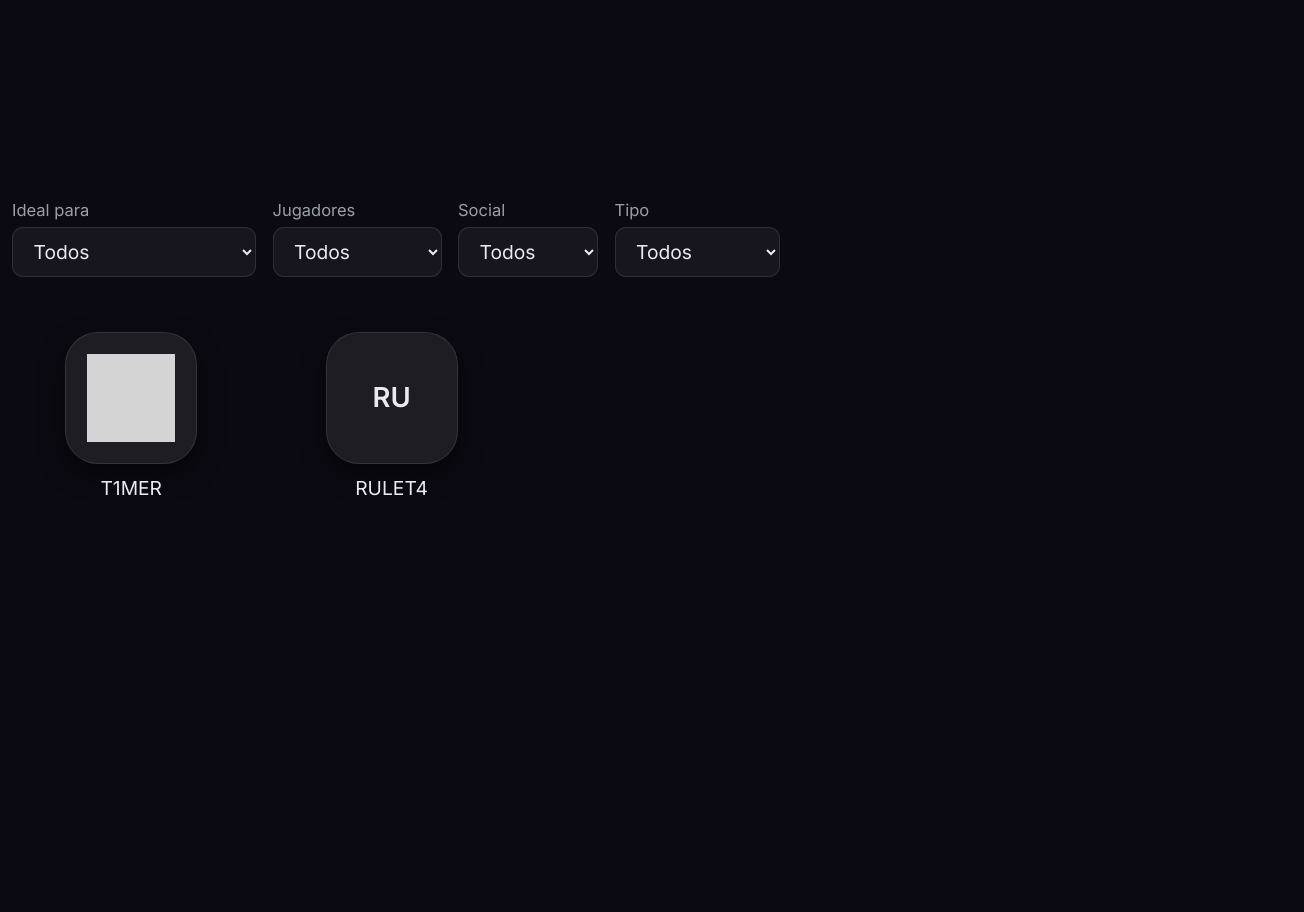
Test: GameGate – create/join view › shows "En desarrollo" note for underDevelopment games
Click the heading "RULET4" at (392, 488), box 355,474 -> 428,502
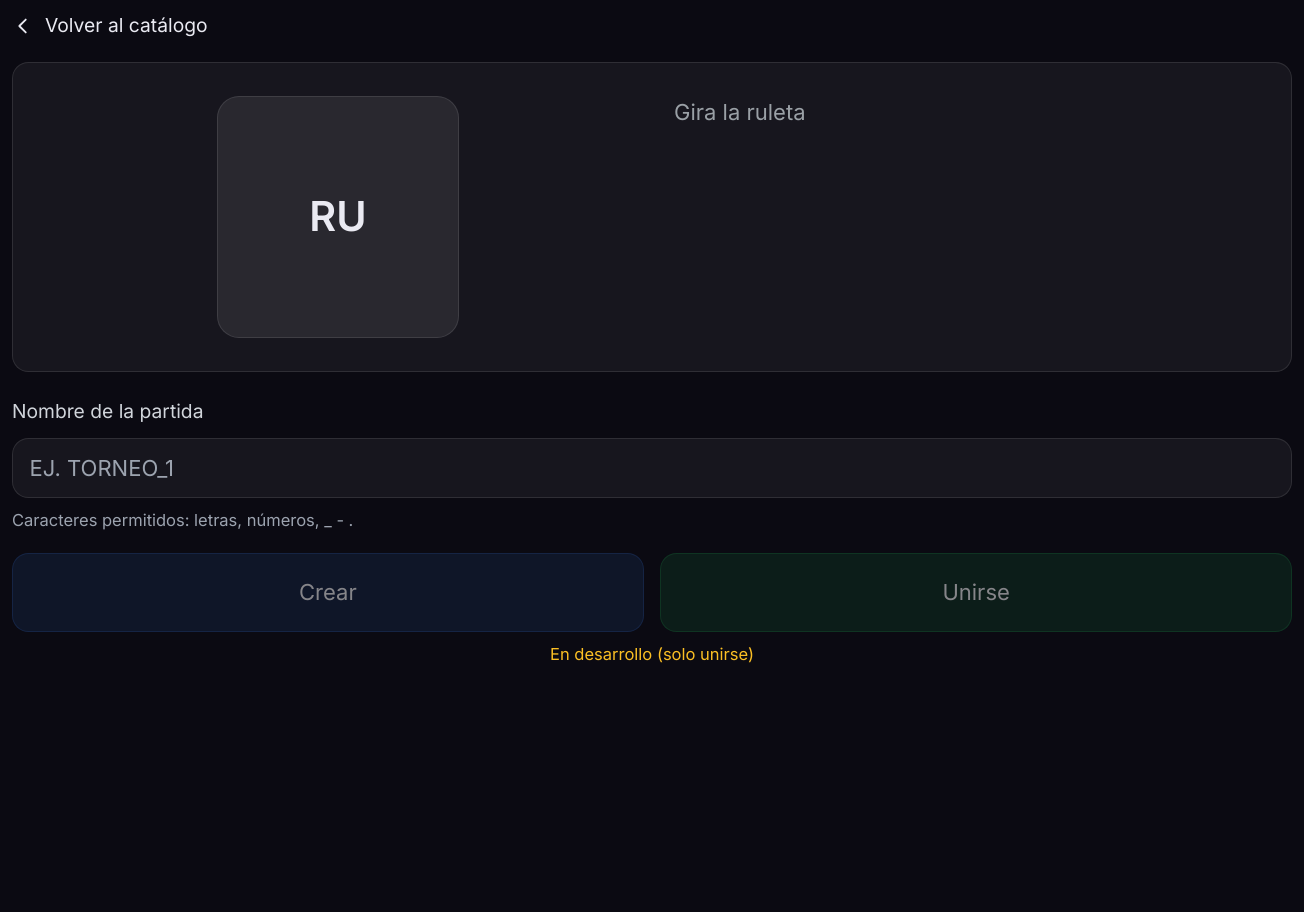
Result: the text "En desarrollo (solo unirse)" is shown at 550,644 -> 754,664
